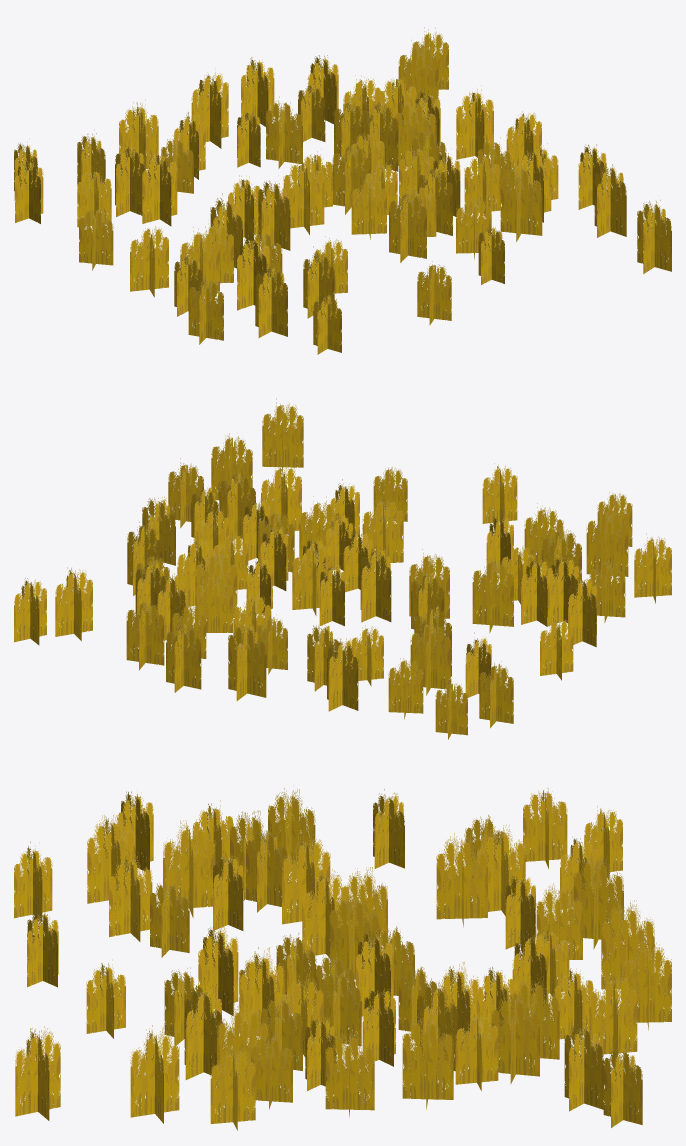
File: Farmi_Pelto_10m_LOD4.fbx
3 renders of one model, top to bottom at view 1: azimuth 30°, elevation 25°; view 2: azimuth 150°, elevation 25°; view 3: azimuth 270°, elevation 25°, orthographic. The views are drawn at different scales.
Visible parts, largest first — view 1: Farmi_Pelto_10m_LOD4; view 2: Farmi_Pelto_10m_LOD4; view 3: Farmi_Pelto_10m_LOD4.
Part boxes in pixels (box(x1,y1,x2,y2)): Farmi_Pelto_10m_LOD4: box(14, 27, 671, 354); Farmi_Pelto_10m_LOD4: box(14, 398, 671, 739); Farmi_Pelto_10m_LOD4: box(14, 785, 671, 1130).
Bounding box in the file's own units: 1064 × 170 × 1054.
